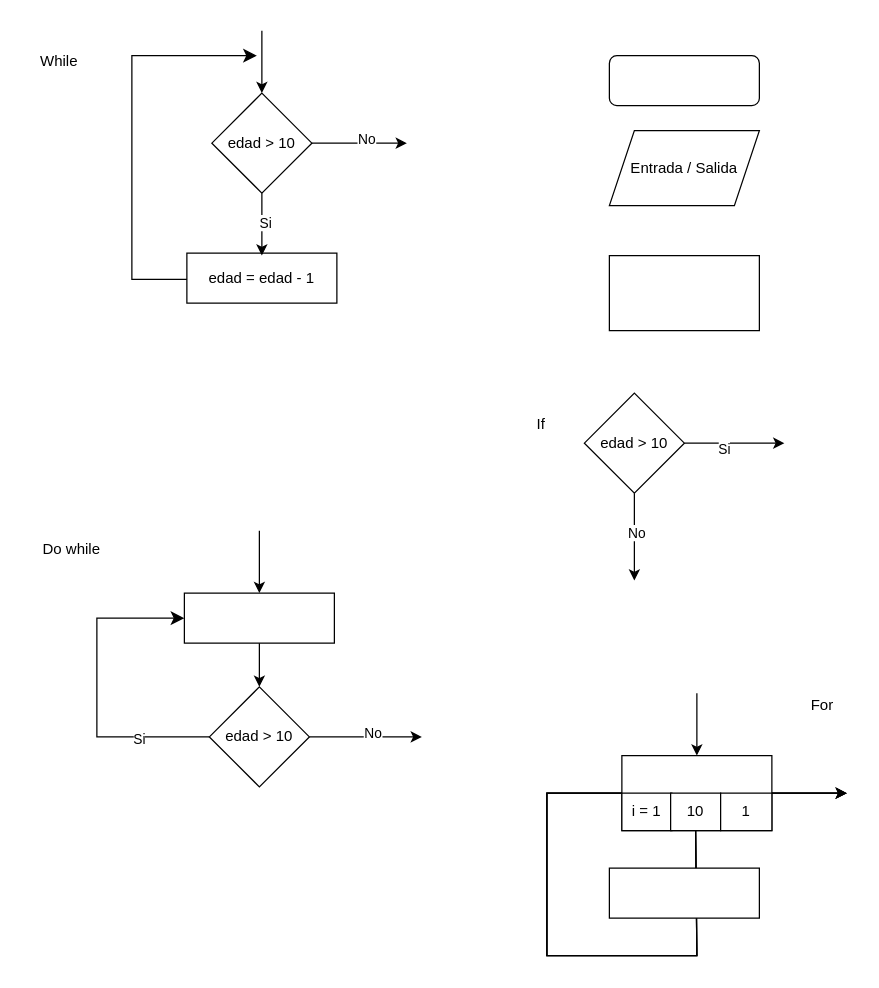
Image size: 879x988. Some labels were removed from this diagram. Here are the shapes that lost their labels. From the top down, the centre of each, then its label:
(683,80): Inicio / Fin
(683,292): Proceso / operación
(258,617): edad = edad -1
(683,892): suma = i + suma
